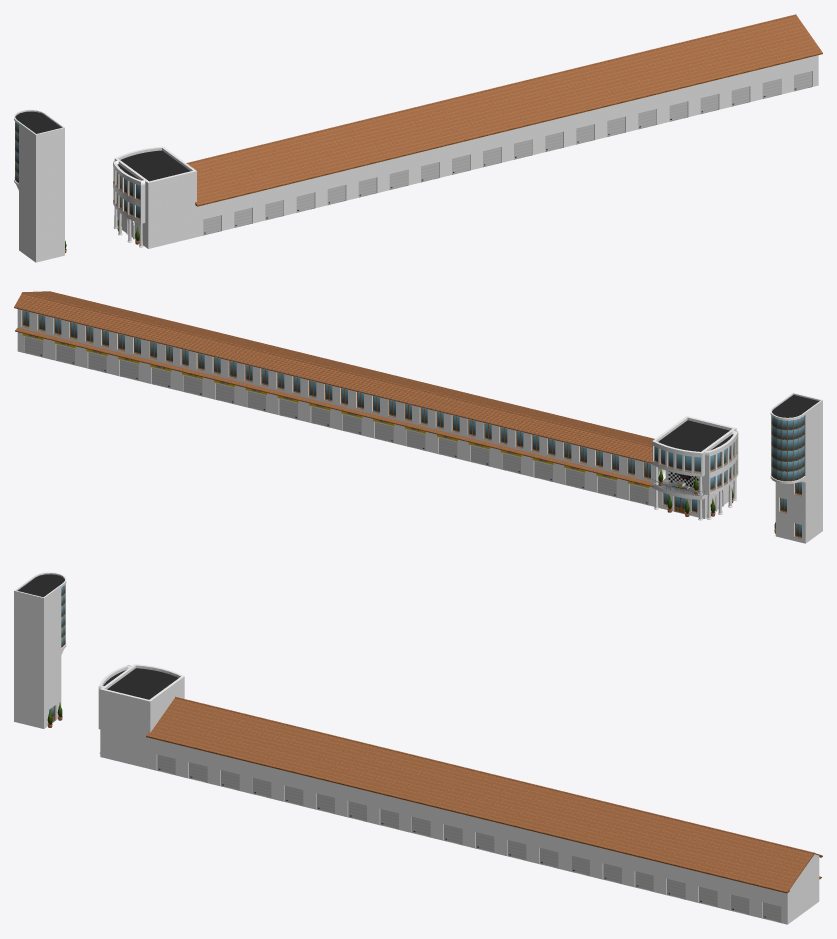
Rendered from oval_mod_buildings.FBX.
The picture shows the model from 3 angles, top to bottom: view 1: azimuth 30°, elevation 25°; view 2: azimuth 150°, elevation 25°; view 3: azimuth 330°, elevation 25°; orthographic projection. The views are drawn at different scales.
Visible parts, largest first — view 1: garages002, paddock, Box002; view 2: garages002, Box002, paddock; view 3: garages002, Box002, paddock.
Boxes of the visible parts, x1,y1,x2,y2 form: garages002: (186, 14, 822, 236); paddock: (113, 146, 196, 248); Box002: (14, 109, 64, 262); garages002: (14, 291, 654, 506); Box002: (770, 392, 822, 543); paddock: (652, 416, 738, 520); garages002: (148, 696, 822, 924); Box002: (14, 572, 66, 728); paddock: (98, 664, 184, 768).
Size of the model in its own units: 6210 by 984 by 623.
